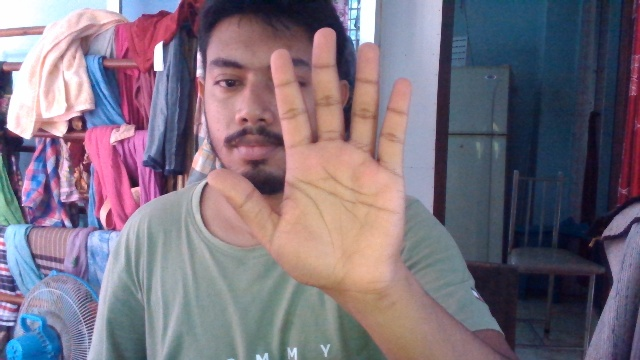hello: (203, 18, 422, 294)
